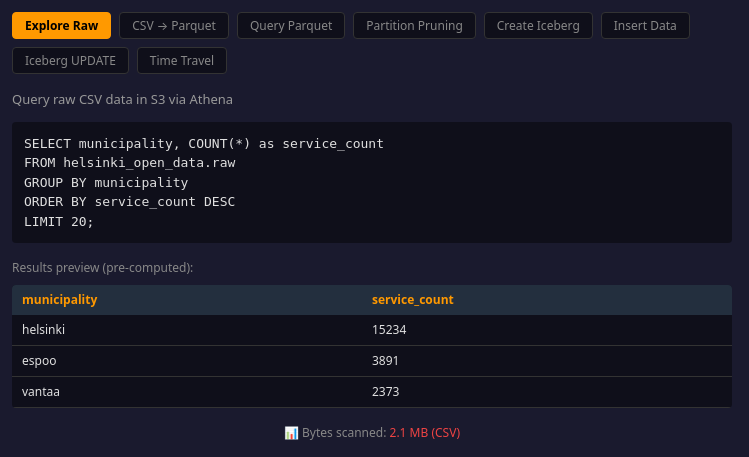
QueryViewer › switches query on tab click
What coordinates should you click on to do the following:
click the button "Iceberg UPDATE"
I would click on:
 (70, 60)
Its box is [12, 47, 129, 74].
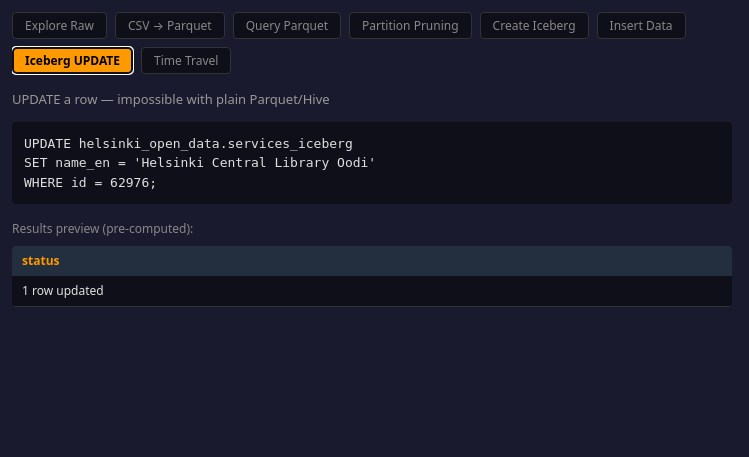
Check: the text "UPDATE helsinki_open_data" is shown, box [24, 136, 376, 190]
